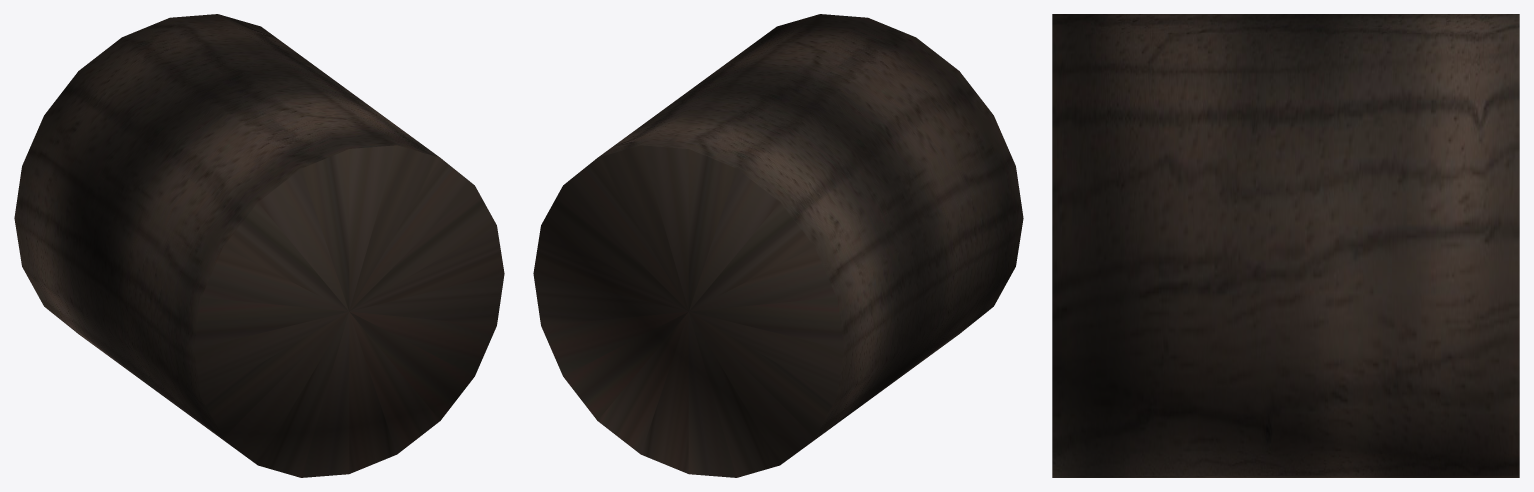
File: slope_1.fbx
The picture shows the model from 3 angles, left to right: view 1: azimuth 30°, elevation 25°; view 2: azimuth 150°, elevation 25°; view 3: azimuth 270°, elevation 25°; orthographic projection. The views are drawn at different scales.
Parts seen in each view (by area): view 1: obj1; view 2: obj1; view 3: obj1.
Part boxes in pixels (x1,y1,x2,y2): obj1: [14, 14, 504, 477]; obj1: [533, 14, 1023, 477]; obj1: [1052, 14, 1519, 477].
Size of the model in its own units: 2 by 2 by 2.
1 material, 1 textured.
